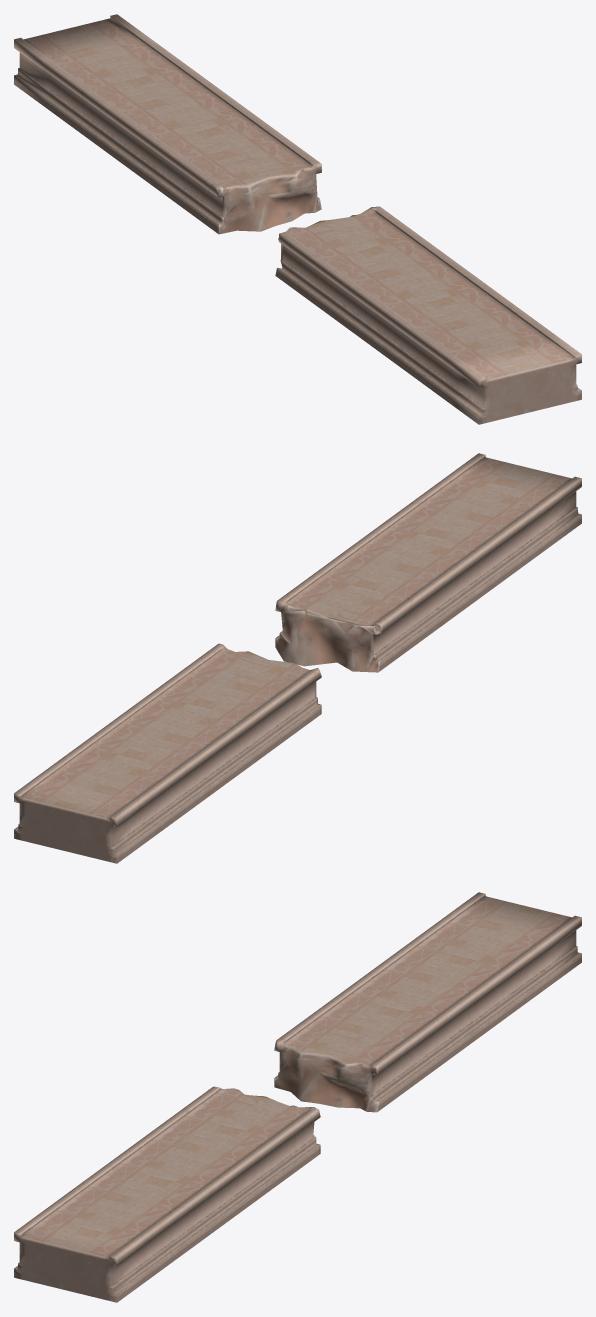
3 renders of one model, top to bottom at view 1: azimuth 30°, elevation 25°; view 2: azimuth 150°, elevation 25°; view 3: azimuth 330°, elevation 25°, orthographic.
Parts seen in each view (by area): view 1: 平面.025; view 2: 平面.025; view 3: 平面.025.
Boxes of the visible parts, bbox=[...] form: 平面.025: bbox=[14, 14, 581, 424]; 平面.025: bbox=[14, 453, 581, 863]; 平面.025: bbox=[14, 892, 581, 1302].
Bounding box in the file's own units: 310 × 130 × 2419.
